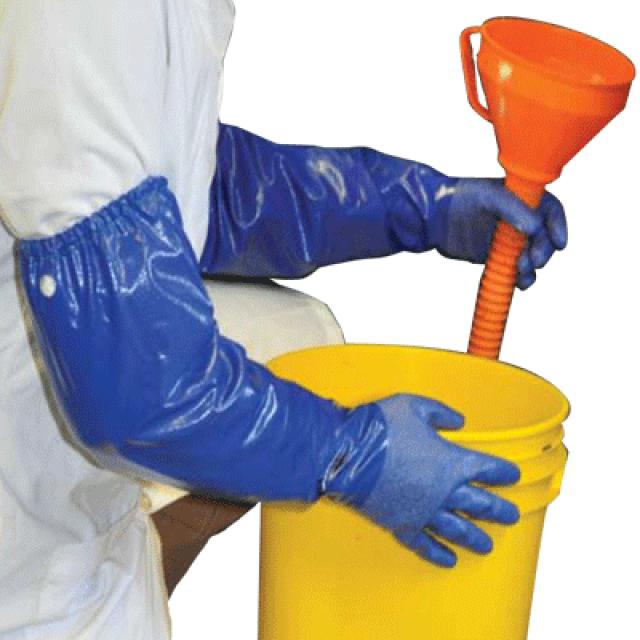gloves: (16, 178, 523, 566), (204, 125, 566, 293)
